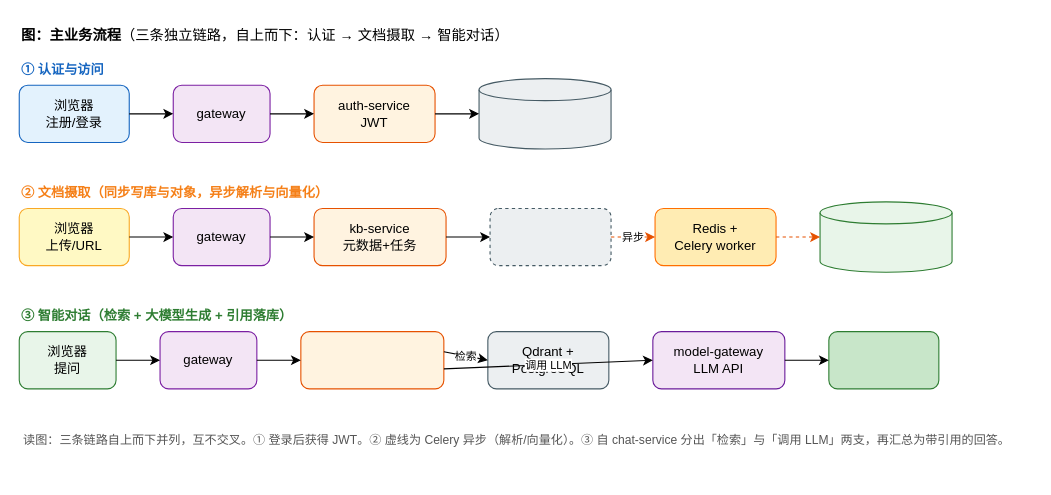
Image size: 1051x495. Some labels were removed from this diagram. Here are the shapes that lost their labels. From the top down, the centre of each, then its label:
At (544,113): "PostgreSQL users / audit".
At (550,236): "PostgreSQL + MinIO".
At (885,236): "Qdrant kb_chunks_v2".
At (372,360): "chat-service 检索+拼上下文".
At (883,360): "回答 + citations".
